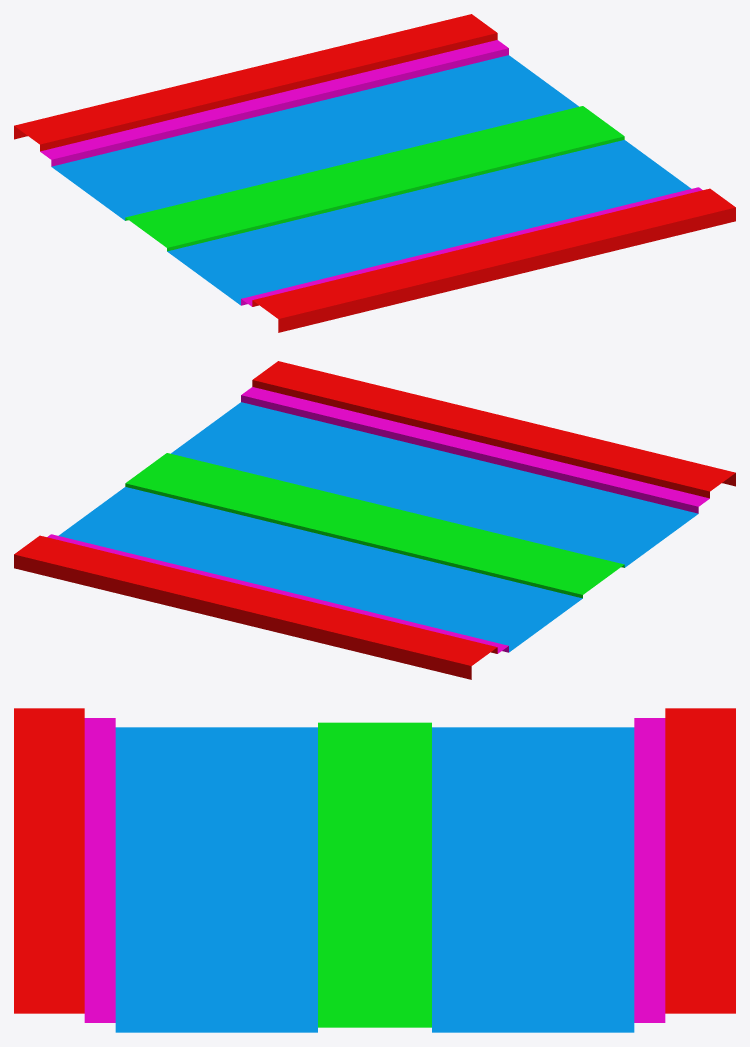
Rendered from FloorBase.fbx.
The picture shows the model from 3 angles, top to bottom: view 1: azimuth 30°, elevation 25°; view 2: azimuth 150°, elevation 25°; view 3: azimuth 270°, elevation 25°; orthographic projection. The views are drawn at different scales.
Parts seen in each view (by area): view 1: Base; view 2: Base; view 3: Base.
Boxes of the visible parts, box(x1,y1,x2,y2) form: Base: box(14, 14, 735, 332); Base: box(14, 361, 735, 679); Base: box(14, 708, 735, 1032).
Bounding box in the file's own units: 78.74 × 2.28 × 78.74.
